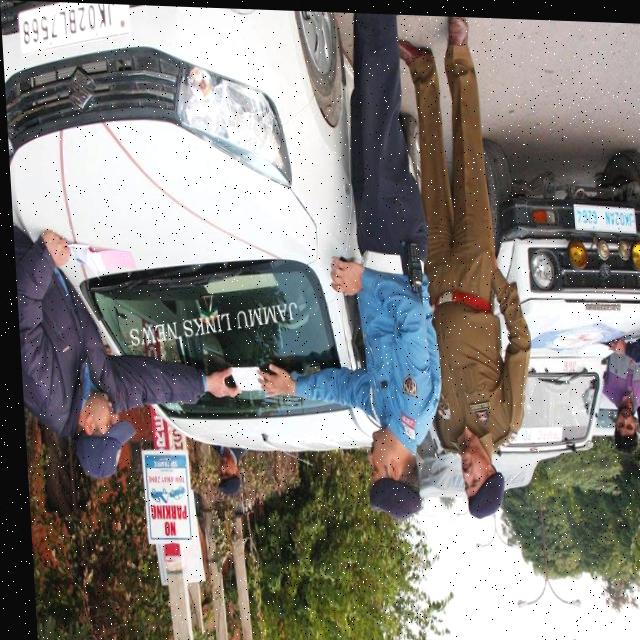plate: (10, 1, 137, 66), (565, 197, 638, 231)
